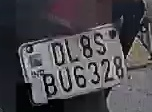2: (100, 59, 113, 85)
3: (88, 62, 101, 86)
6: (73, 66, 89, 92)
8: (80, 33, 93, 59), (114, 56, 124, 79)
B: (43, 70, 59, 98)
D: (50, 42, 66, 67)
L: (64, 39, 79, 65)
S: (93, 34, 107, 57)
U: (58, 69, 74, 93)
